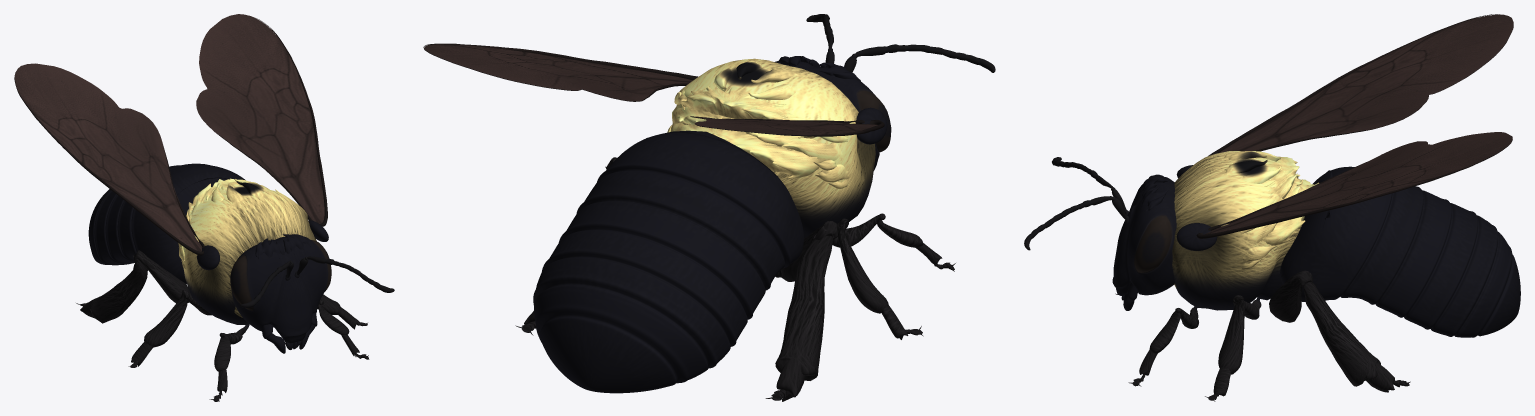
File: mamangava.glb
3 views of the same model, side by side, from view 1: azimuth 30°, elevation 25°; view 2: azimuth 150°, elevation 25°; view 3: azimuth 270°, elevation 25° (orthographic). The views are drawn at different scales.
Parts seen in each view (by area): view 1: skeletal.1; view 2: skeletal.1; view 3: skeletal.1.
Boxes of the visible parts, <box> form: skeletal.1: <box>14,14,394,401</box>; skeletal.1: <box>423,14,995,401</box>; skeletal.1: <box>1024,14,1520,401</box>.
Bounding box in the file's own units: 15.07 × 12.58 × 21.47.
1 material, 1 textured.
